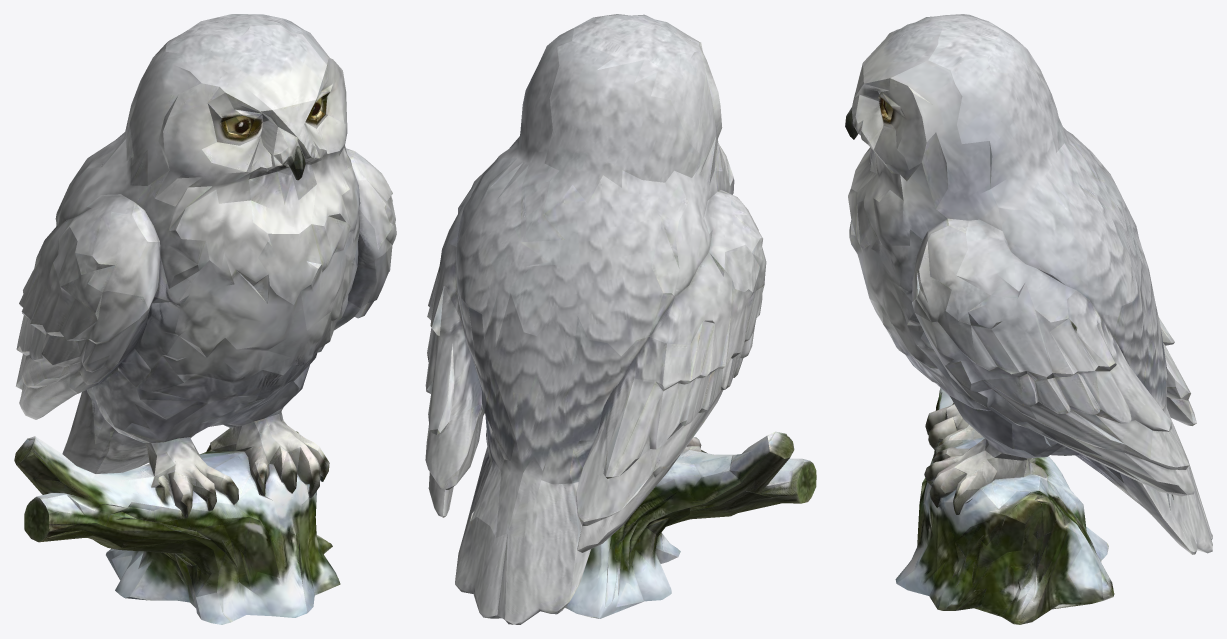
The model's file is owl.glb.
3 renders of one model, left to right at view 1: azimuth 30°, elevation 25°; view 2: azimuth 150°, elevation 25°; view 3: azimuth 270°, elevation 25°, orthographic. The views are drawn at different scales.
Parts seen in each view (by area): view 1: Mesh_0; view 2: Mesh_0; view 3: Mesh_0.
Part boxes in pixels (<box>): Mesh_0: <box>14,14,396,624</box>; Mesh_0: <box>425,14,816,624</box>; Mesh_0: <box>845,14,1212,624</box>.
Bounding box in the file's own units: 1.25 × 1.9 × 1.17.
1 material, 1 textured.
